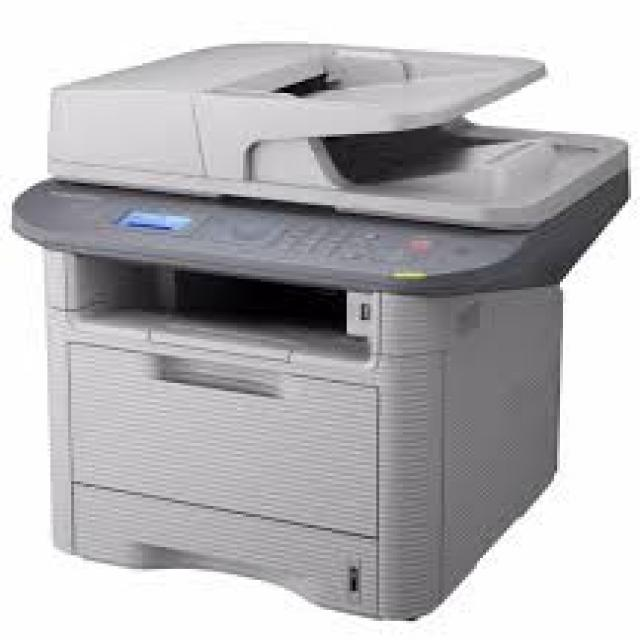printer: (8, 41, 632, 619)
